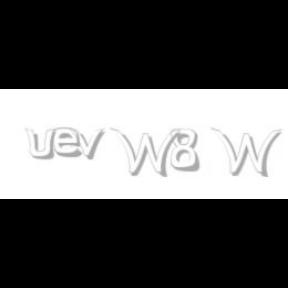8: (171, 128, 200, 172)
W: (109, 128, 181, 178), (210, 128, 282, 178)
e: (54, 128, 86, 158)
u: (24, 128, 60, 160)
v: (69, 128, 109, 160)
